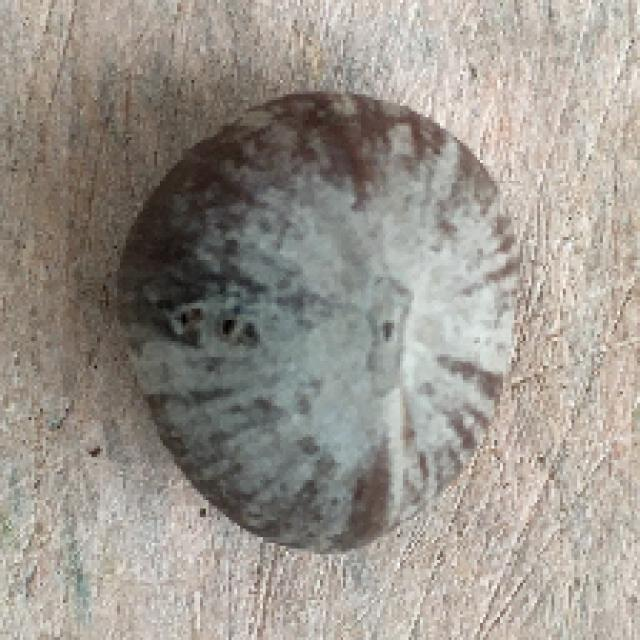damagedHazelnut: (114, 88, 521, 554)
